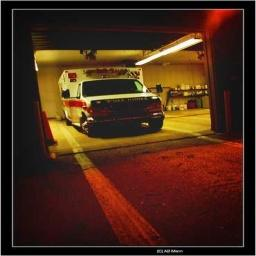ambulance: (58, 67, 163, 135)
